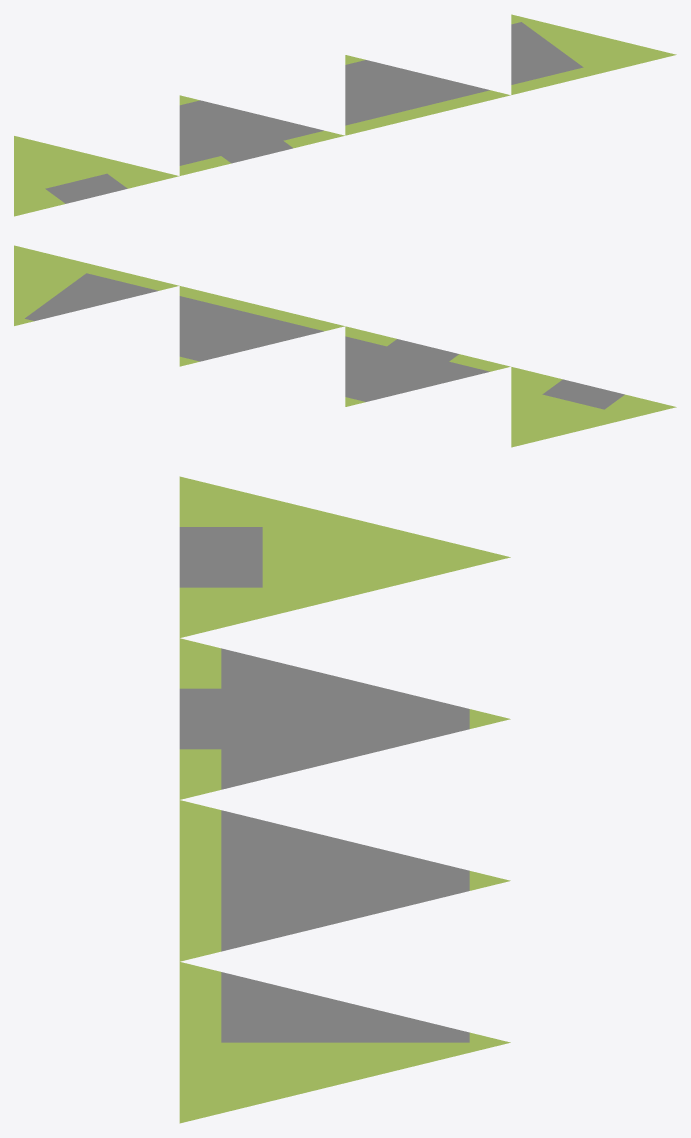
Rendered from tile_set_runway.dae.
3 views of the same model, one above another, from view 1: azimuth 30°, elevation 25°; view 2: azimuth 150°, elevation 25°; view 3: azimuth 270°, elevation 25° (orthographic). The views are drawn at different scales.
Parts seen in each view (by area): view 1: tile_runway_end (×2), tile_runway_hanger (×2), tile_runway_mid (×2), tile_runway_junc (×3); view 2: tile_runway_end (×2), tile_runway_hanger (×2), tile_runway_mid (×2), tile_runway_junc (×3); view 3: tile_runway_end (×2), tile_runway_hanger (×2), tile_runway_junc (×3), tile_runway_mid (×2).
Boxes of the visible parts, box(x1,y1,x2,y2) form: tile_runway_end (×2): box(511, 14, 676, 94); tile_runway_hanger (×2): box(14, 136, 179, 216); tile_runway_mid (×2): box(345, 60, 510, 135); tile_runway_junc (×3): box(179, 100, 344, 175); tile_runway_end (×2): box(14, 245, 179, 325); tile_runway_hanger (×2): box(511, 367, 676, 447); tile_runway_mid (×2): box(179, 286, 344, 361); tile_runway_junc (×3): box(345, 326, 510, 401); tile_runway_end (×2): box(179, 962, 510, 1123); tile_runway_hanger (×2): box(179, 476, 510, 637); tile_runway_junc (×3): box(179, 638, 469, 799); tile_runway_mid (×2): box(179, 800, 469, 961).
Bounding box in the file's own units: 1890 × 409 × 1.99e-13.
